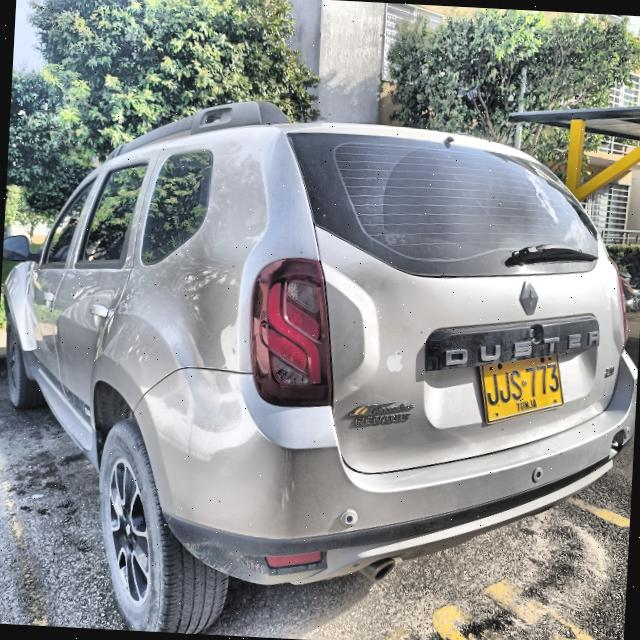plate: (481, 355, 564, 423)
